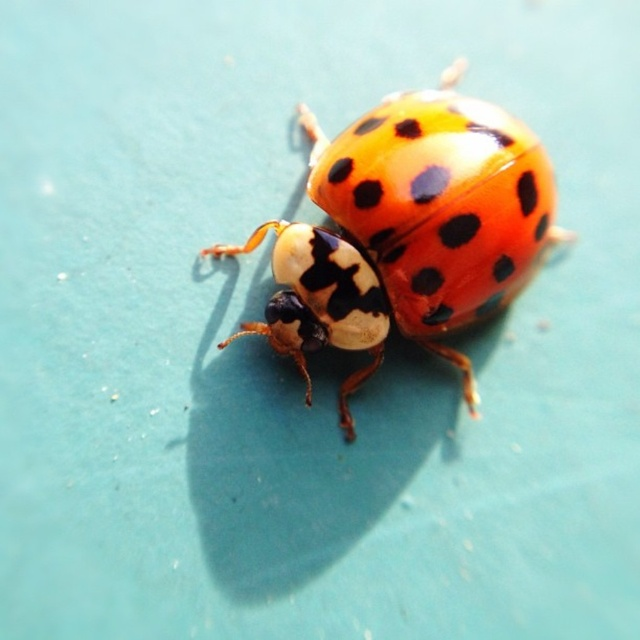Ladybug: (200, 55, 577, 442), (199, 56, 578, 440)
